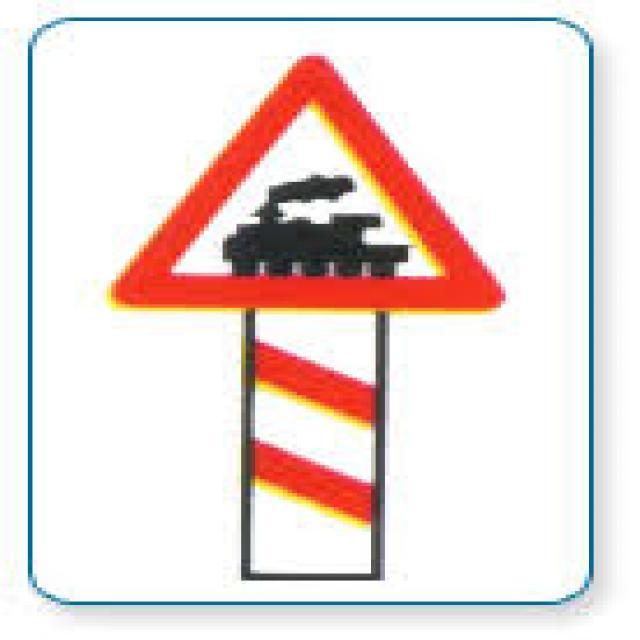unguarded level crossing: (114, 50, 507, 312)
